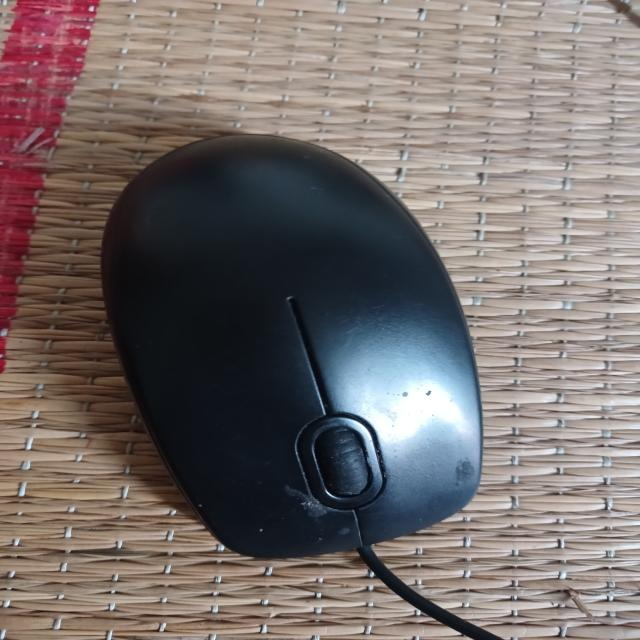mouse: (94, 126, 487, 558)
